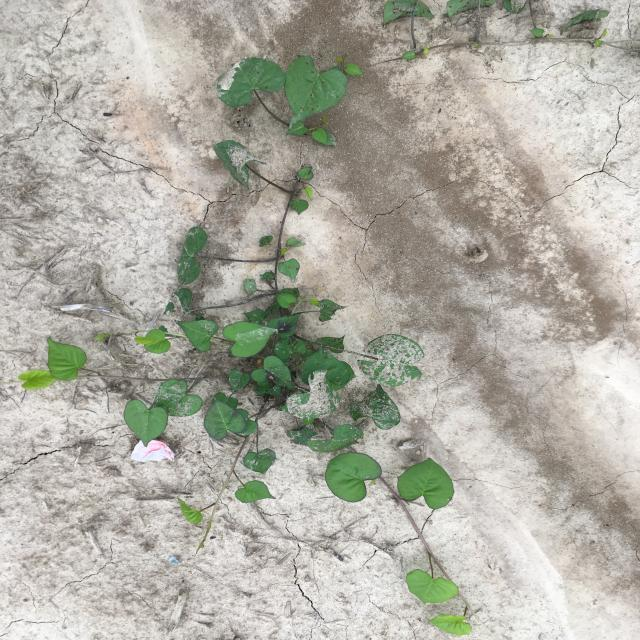MorningGlory: (18, 140, 500, 639), (211, 0, 611, 149)
